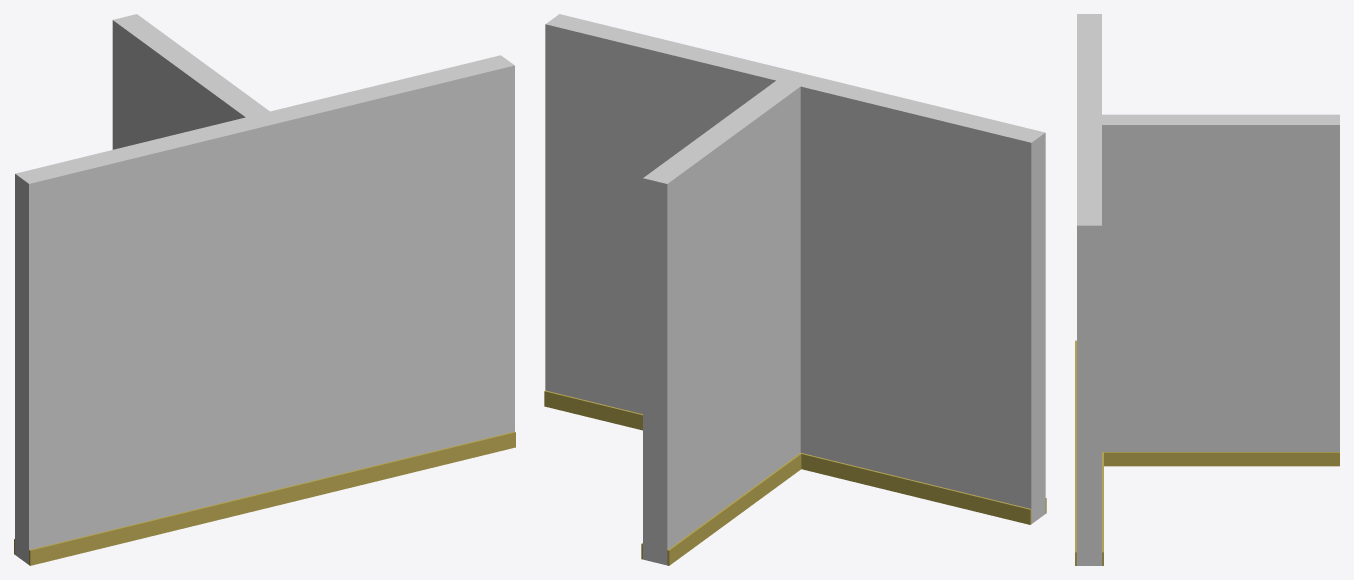
The model's file is MOD_06_Wall_TJunction.fbx.
The picture shows the model from 3 angles, left to right: view 1: azimuth 30°, elevation 25°; view 2: azimuth 150°, elevation 25°; view 3: azimuth 270°, elevation 25°; orthographic projection. The views are drawn at different scales.
Visible parts, largest first — view 1: MOD_06_Wall_TJunction; view 2: MOD_06_Wall_TJunction; view 3: MOD_06_Wall_TJunction.
Boxes of the visible parts, left/top/right/bottom form: MOD_06_Wall_TJunction: left=14, top=14, right=515, bottom=565; MOD_06_Wall_TJunction: left=544, top=14, right=1046, bottom=565; MOD_06_Wall_TJunction: left=1075, top=14, right=1339, bottom=565.
Size of the model in its own units: 4 by 3 by 2.12.
